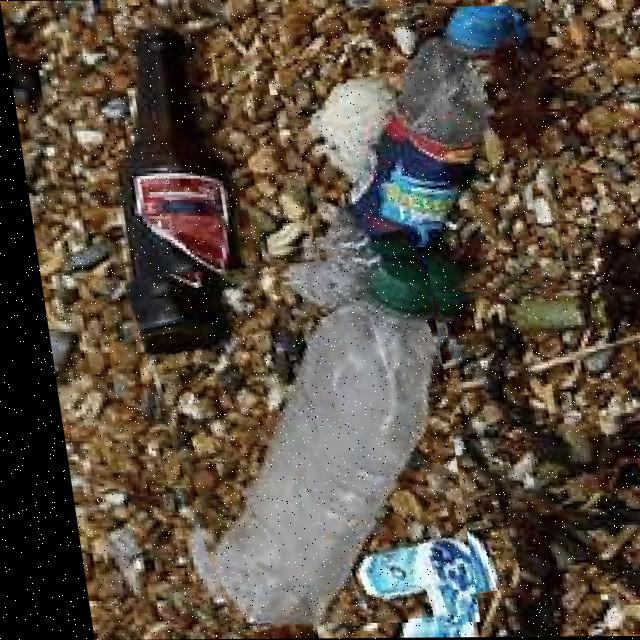litter: (195, 250, 422, 623), (309, 6, 509, 299)
